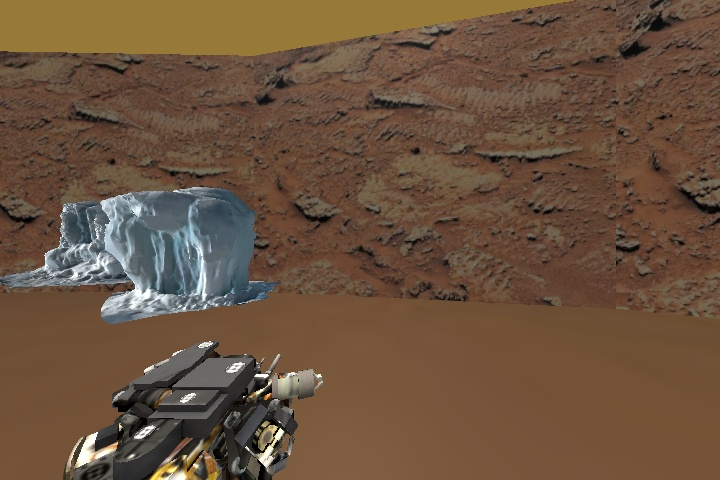minerals: (51, 187, 272, 322)
